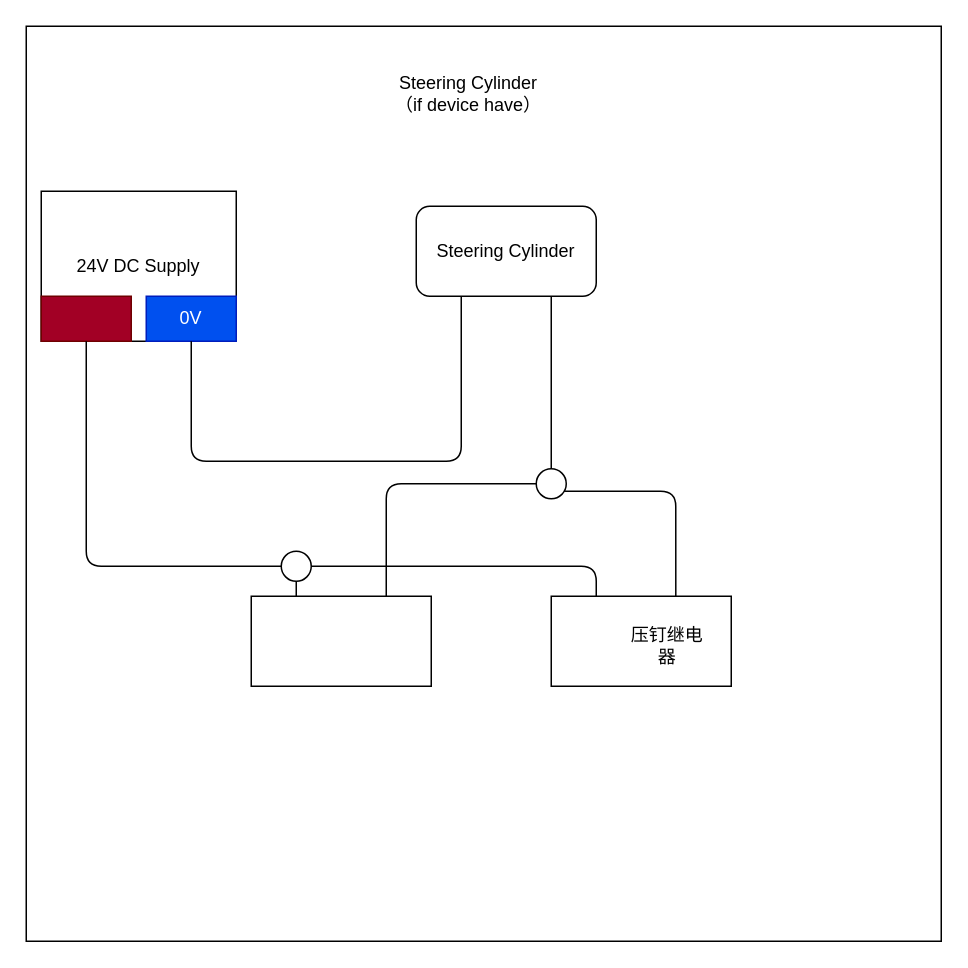
Image size: 968x968. Some labels were removed from this diagram. The shapes that lost their labels are listed below. From the top down, each one's box as (x1, y1, x2, y2) in pixels, then its label:
(40, 295, 131, 341): 24V
(250, 595, 431, 686): 供料继电器
